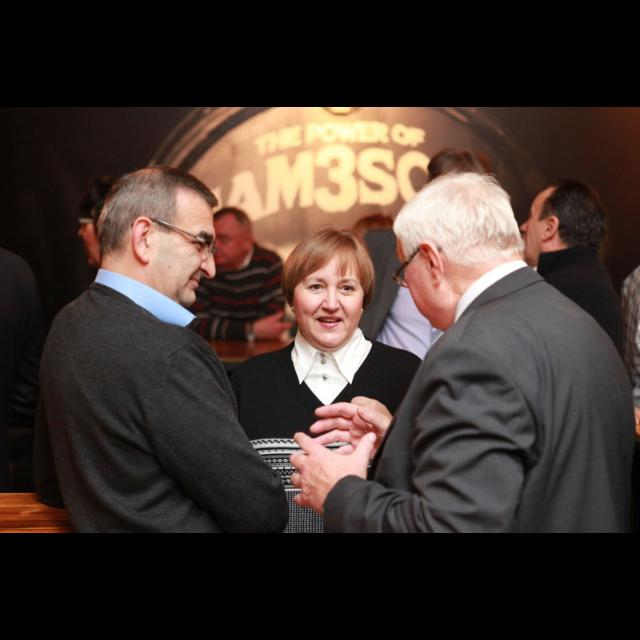head: (394, 178, 524, 334), (101, 168, 219, 306), (286, 228, 370, 348), (520, 180, 606, 270), (78, 172, 144, 268), (426, 148, 494, 225), (205, 208, 255, 268)
